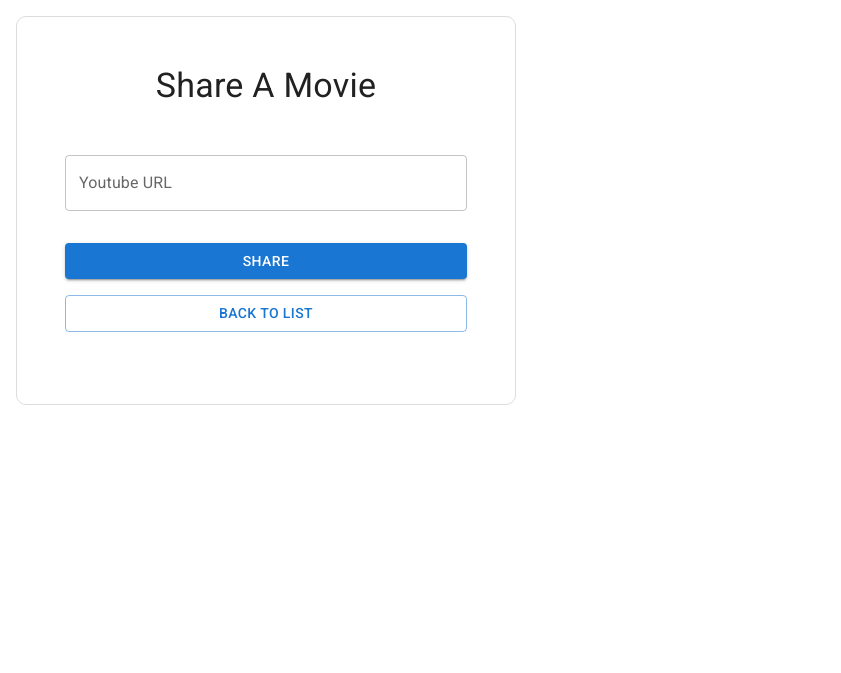
share url invalid link
In the field labelled "Youtube URL": (266, 183) [65,155,467,211], type "https://www.youtube.com/watch?v=9SnAO_QYRG"
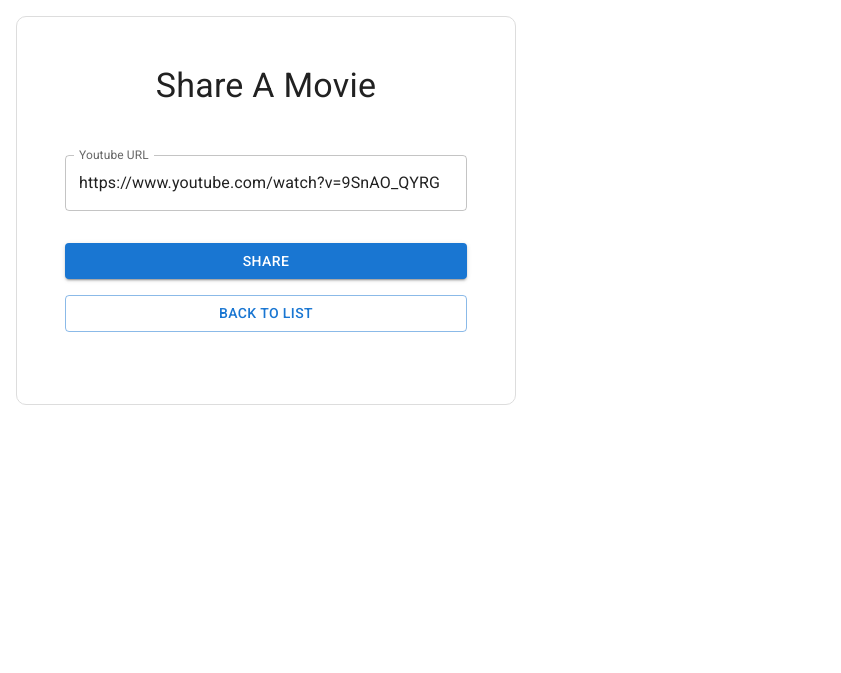
Click the button "Share": (266, 261) [65,243,467,280]
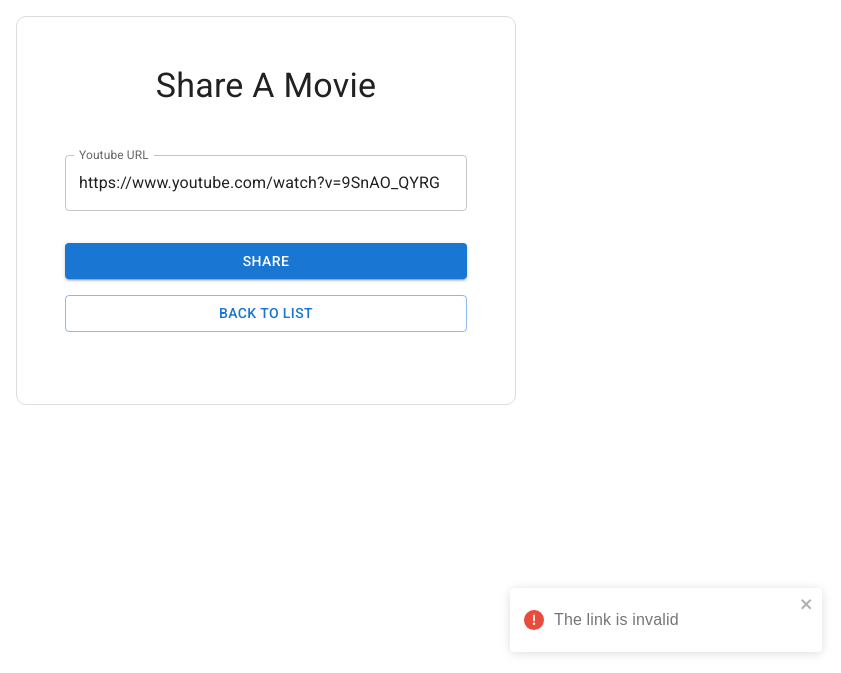
Expected: the text "The link is invalid" is shown, [554,611,679,628]
